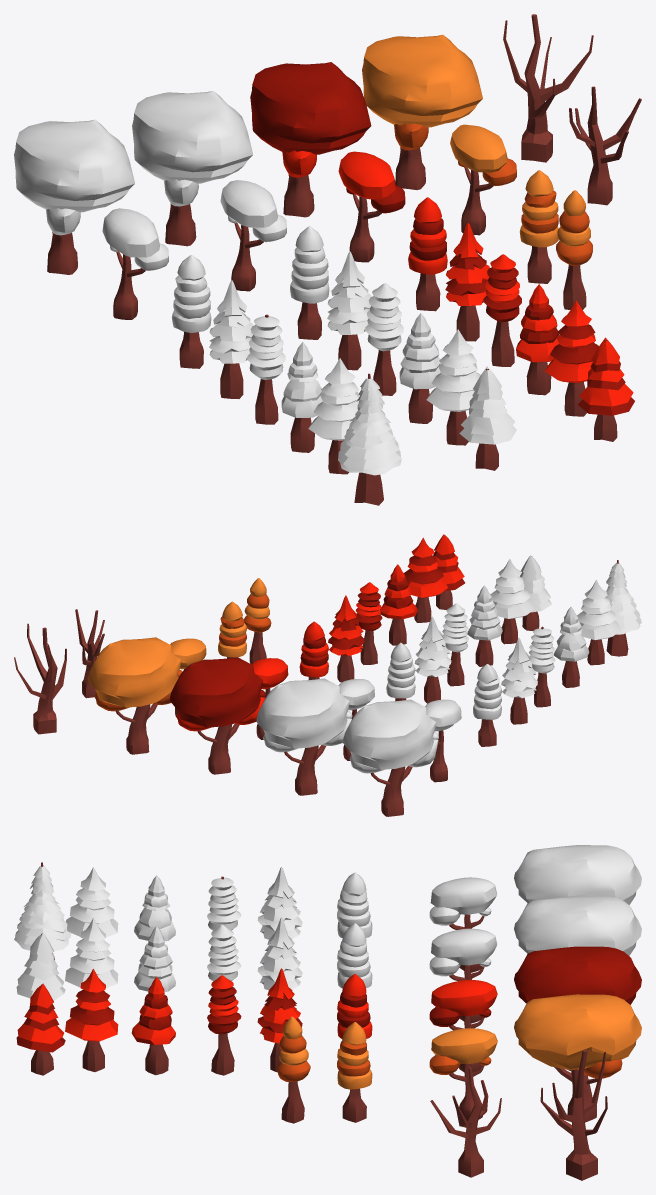
Rendered from toon_tree_aset.fbx.
The picture shows the model from 3 angles, top to bottom: view 1: azimuth 30°, elevation 25°; view 2: azimuth 150°, elevation 25°; view 3: azimuth 270°, elevation 25°; orthographic projection. The views are drawn at different scales.
Visible parts, largest first — view 1: Cylinder.016, Cylinder.013, Cylinder.024, Cylinder.028, Cylinder.040, Cylinder.009, Cylinder.020, Cylinder.010, Cylinder.027, Cylinder.031, Cylinder.003, Cylinder.015 (+18 smaller); view 2: Cylinder.016, Cylinder.024, Cylinder.013, Cylinder.028, Cylinder.004, Cylinder.003, Cylinder.031, Cylinder.015, Cylinder.040, Cylinder.021, Cylinder.023, Cylinder.012 (+18 smaller); view 3: Cylinder.028, Cylinder.013, Cylinder.016, Cylinder.024, Cylinder.015, Cylinder.027, Cylinder.031, Cylinder.009, Cylinder.010, Cylinder.020, Cylinder.040, Cylinder.014 (+18 smaller).
Part boxes in pixels (x1,y1,x2,y2): Cylinder.016: (14,119,134,274); Cylinder.013: (132,91,252,246); Cylinder.024: (250,62,371,217); Cylinder.028: (362,34,482,189); Cylinder.040: (338,373,402,505); Cylinder.009: (102,208,168,319); Cylinder.020: (338,151,405,262); Cylinder.010: (220,180,286,291); Cylinder.027: (450,124,516,235); Cylinder.031: (503,14,593,162); Cylinder.003: (426,329,480,445); Cylinder.015: (545,300,598,416); Cylinder.016: (343,699,438,816); Cylinder.024: (170,657,265,774); Cylinder.013: (256,678,351,795); Cylinder.028: (88,637,181,754); Cylinder.004: (577,580,620,665); Cylinder.003: (490,559,534,644); Cylinder.031: (14,623,66,734); Cylinder.015: (404,537,447,622); Cylinder.040: (605,560,641,656); Cylinder.021: (501,637,537,724); Cylinder.023: (328,595,364,682); Cylinder.012: (414,616,451,703); Cylinder.028: (514,994,641,1122); Cylinder.013: (514,895,641,955); Cylinder.016: (514,845,641,905); Cylinder.024: (514,946,641,1070); Cylinder.015: (65,969,118,1071); Cylinder.027: (429,1028,497,1120); Cylinder.031: (540,1049,607,1180); Cylinder.009: (429,877,496,972); Cylinder.010: (429,928,497,1023); Cylinder.020: (429,979,497,1071); Cylinder.040: (14,862,71,968); Cylinder.014: (16,983,65,1075).
Bounding box in the file's own units: 4419 × 1107 × 4909.
